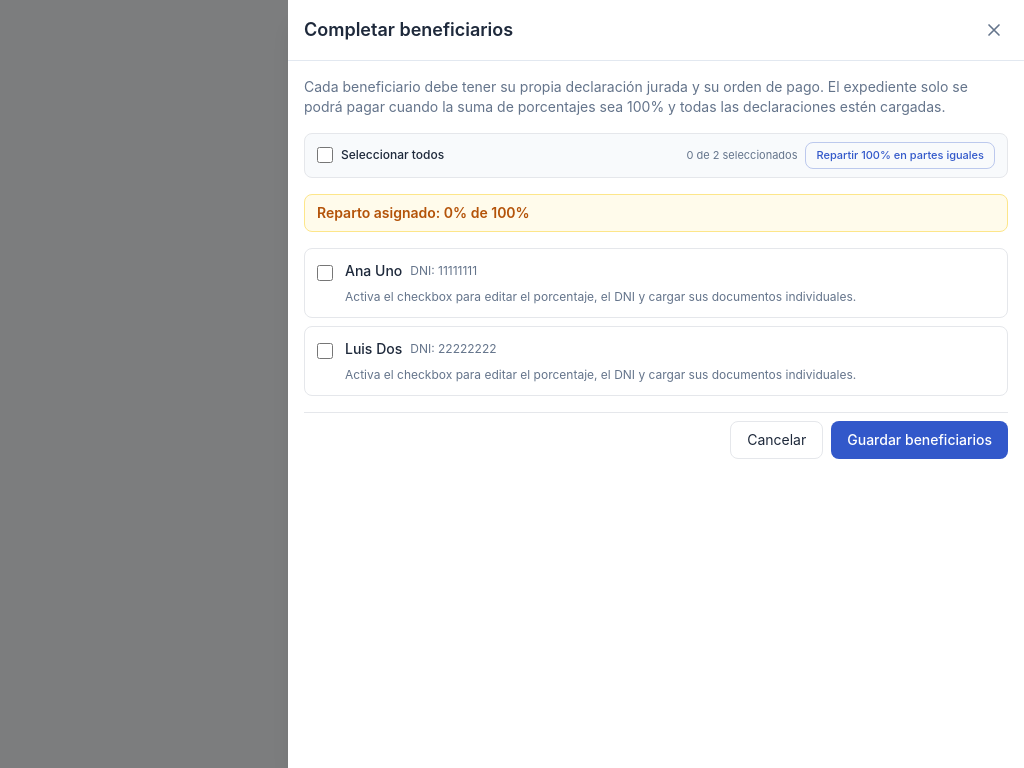
it: CompletarBeneficiariosModal › selecciona todos, reparte 100% y abre la documentación individual
Expected: the text "Ana Uno" is shown, [345,260,402,280]
Click the checkbox labelled "Seleccionar todos". click: {"x": 325, "y": 155}
box: [317,147,333,163]
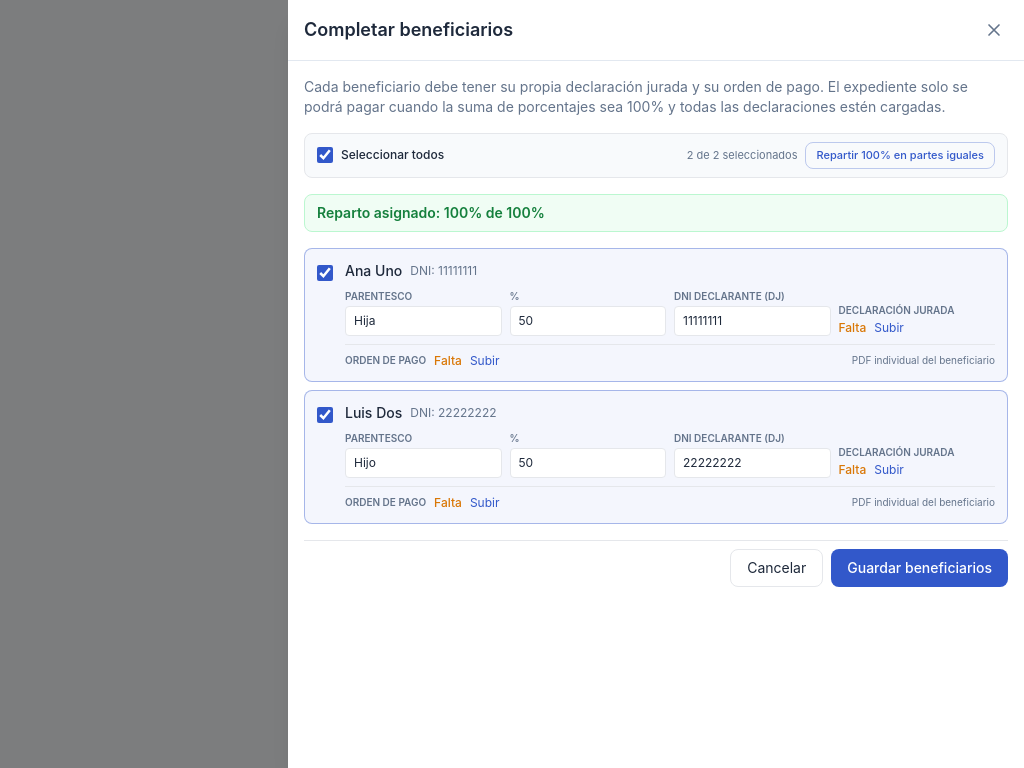
Now the text "Declaración jurada" is shown 2 times, box [838,304,954,316]; [838,446,954,458]
Now the text "Orden de pago" is shown 2 times, box [345,353,426,368]; [345,495,426,510]
Now the text "2 de 2 seleccionados" is shown, box [687,147,798,164]
